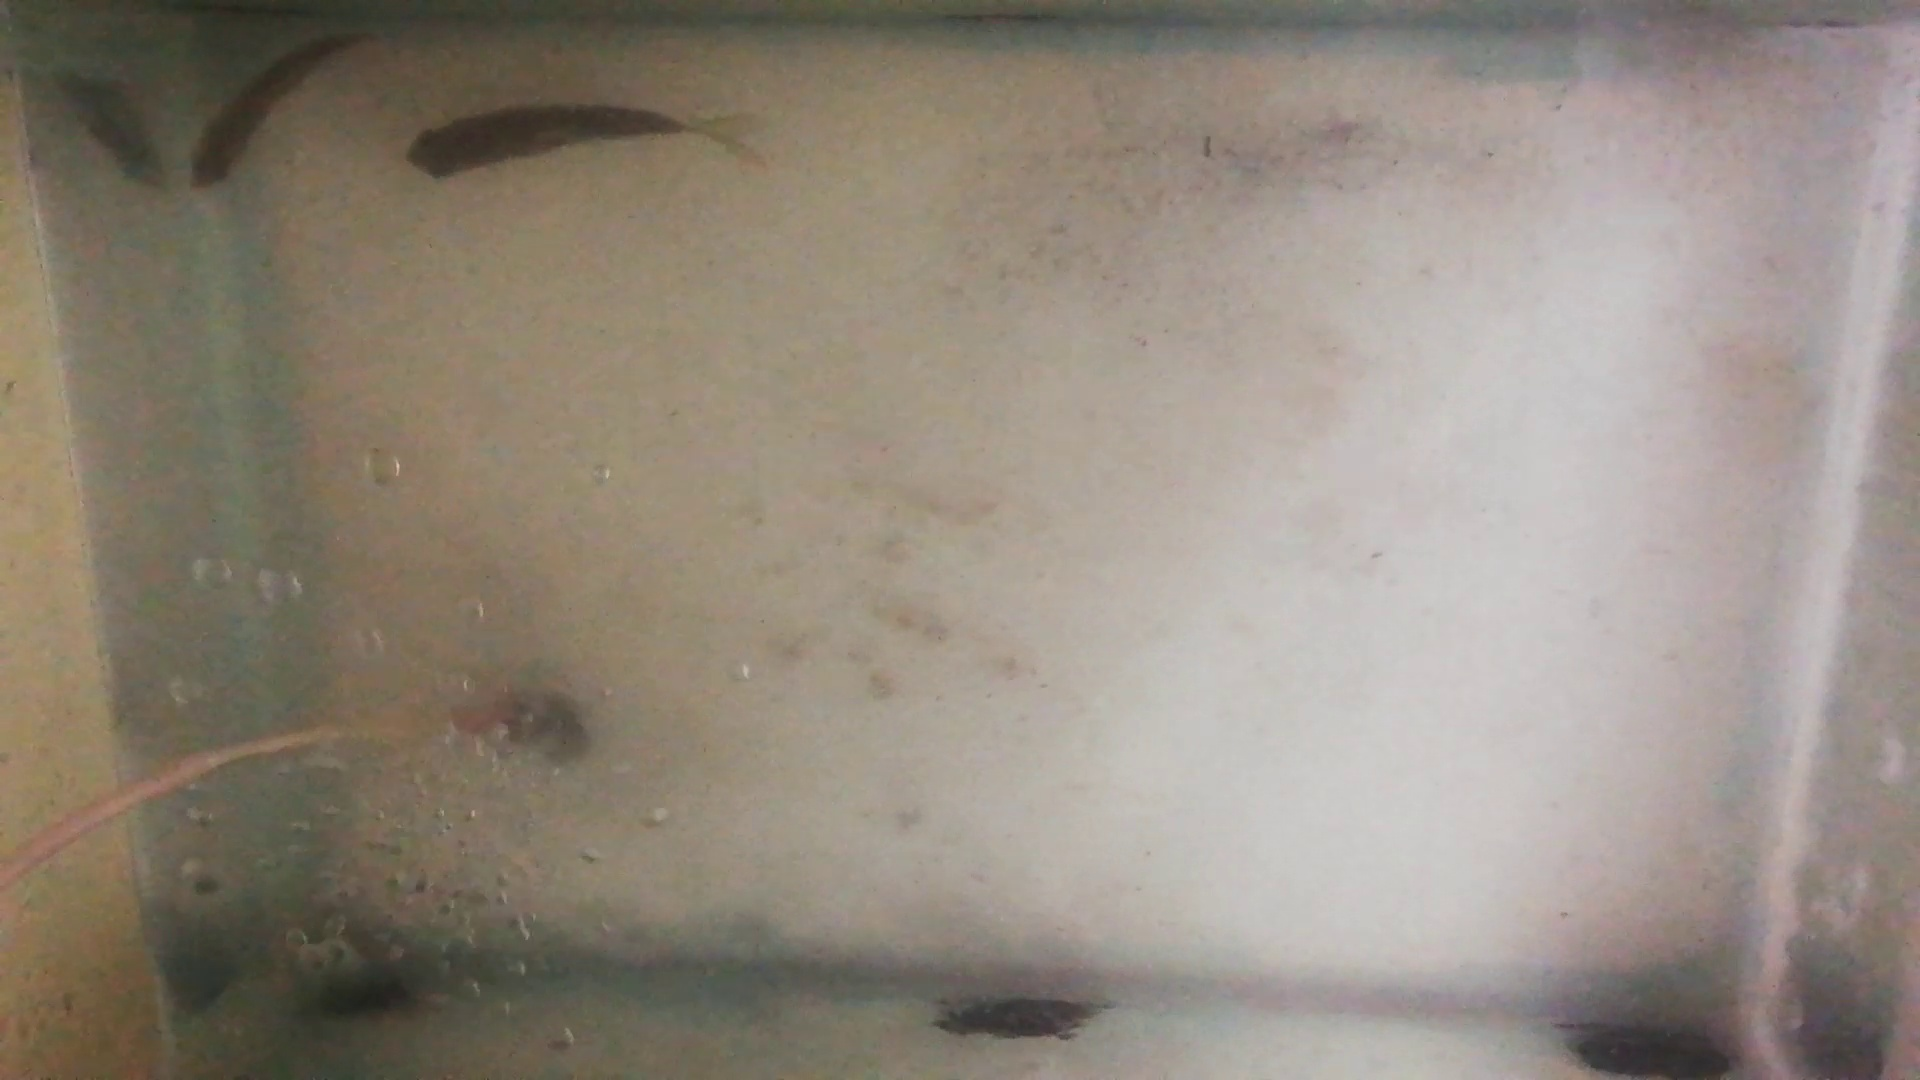fish: (186, 36, 360, 193), (404, 102, 688, 182)
